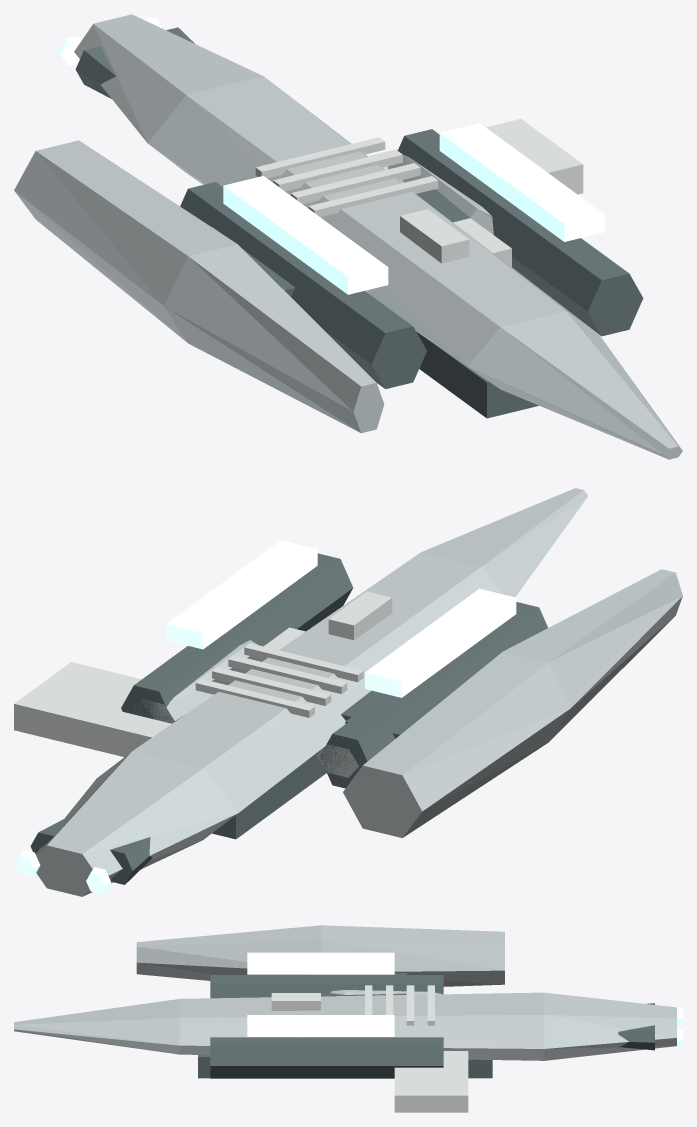
The picture shows the model from 3 angles, top to bottom: view 1: azimuth 30°, elevation 25°; view 2: azimuth 150°, elevation 25°; view 3: azimuth 270°, elevation 25°; orthographic projection. The views are drawn at different scales.
Size of the model in its own units: 6.05 by 1.62 by 12.32.
